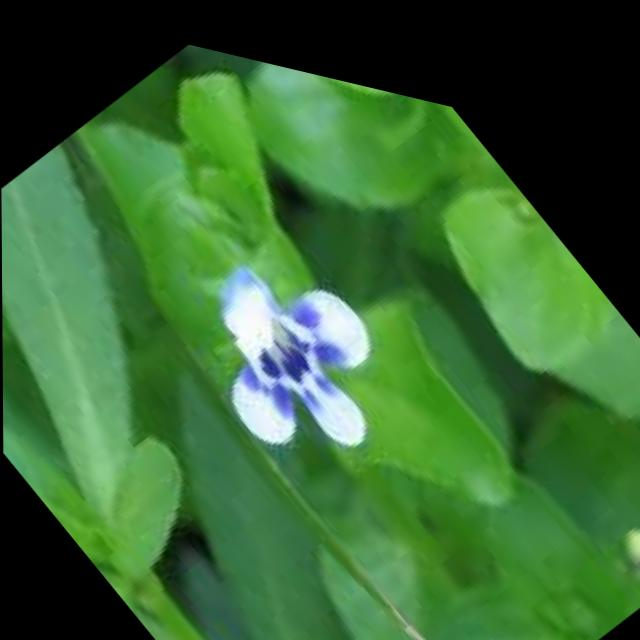Flower: (164, 168, 449, 505)
